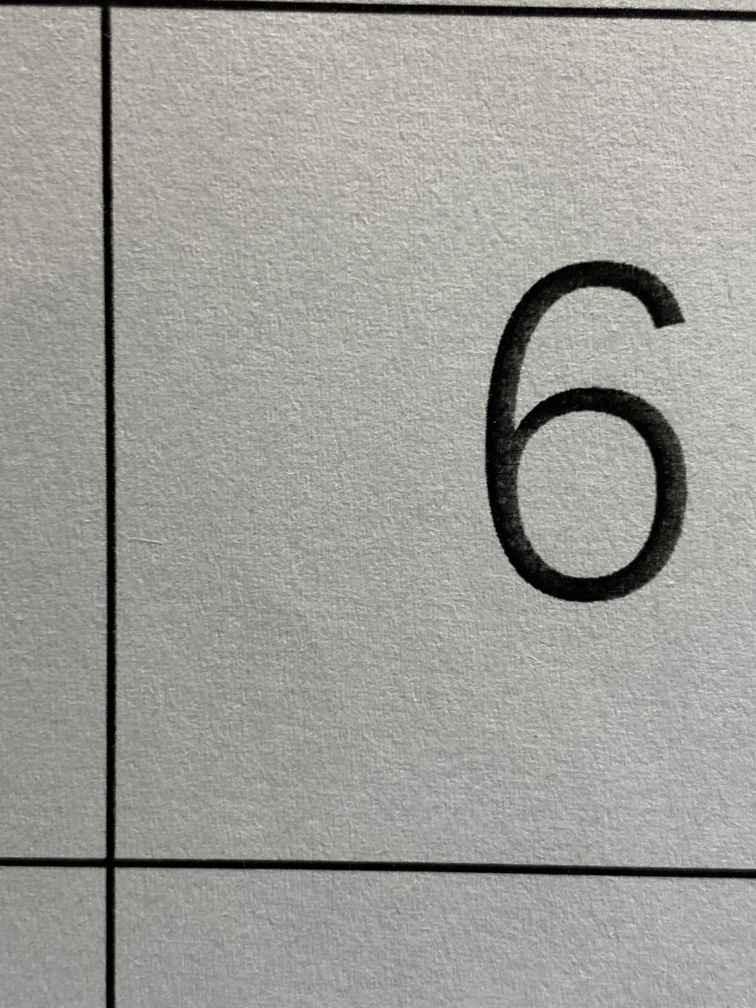six: (400, 200, 752, 664)
